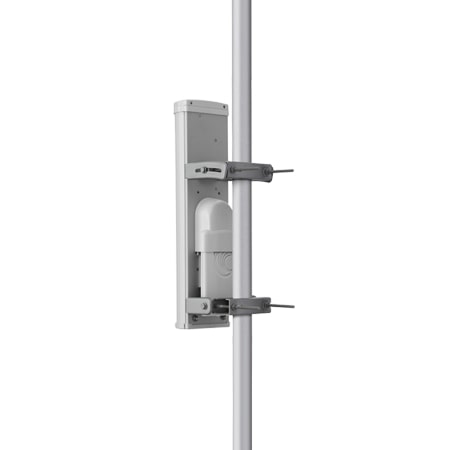sa: (161, 76, 264, 343)
